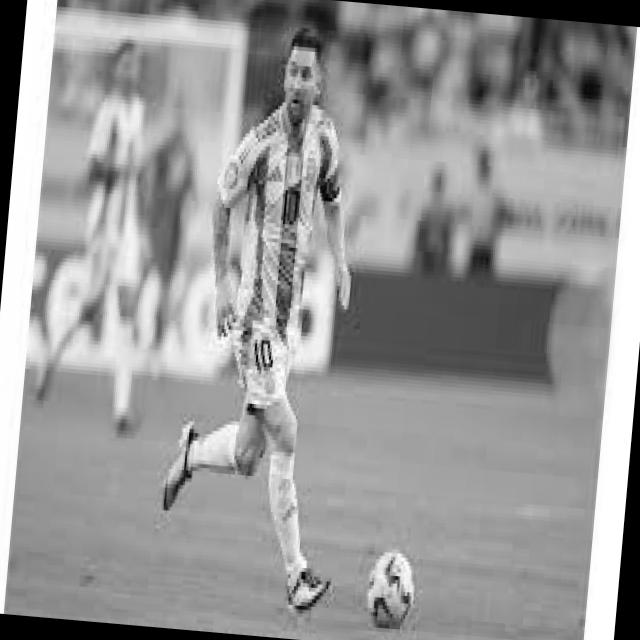football: (363, 542, 422, 631)
